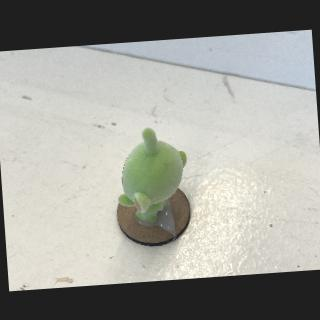teletubby: (118, 127, 186, 222)
